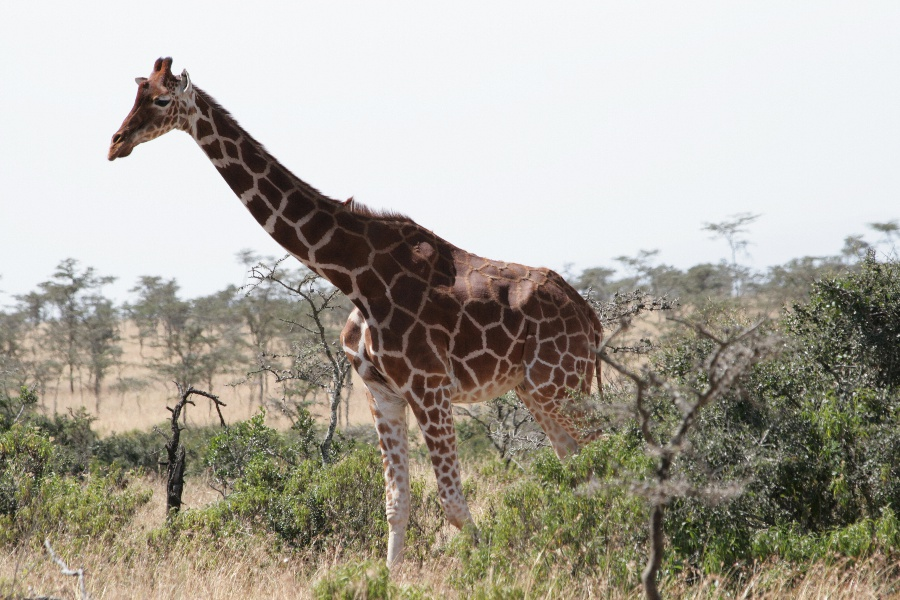giraffe: (102, 50, 649, 581)
